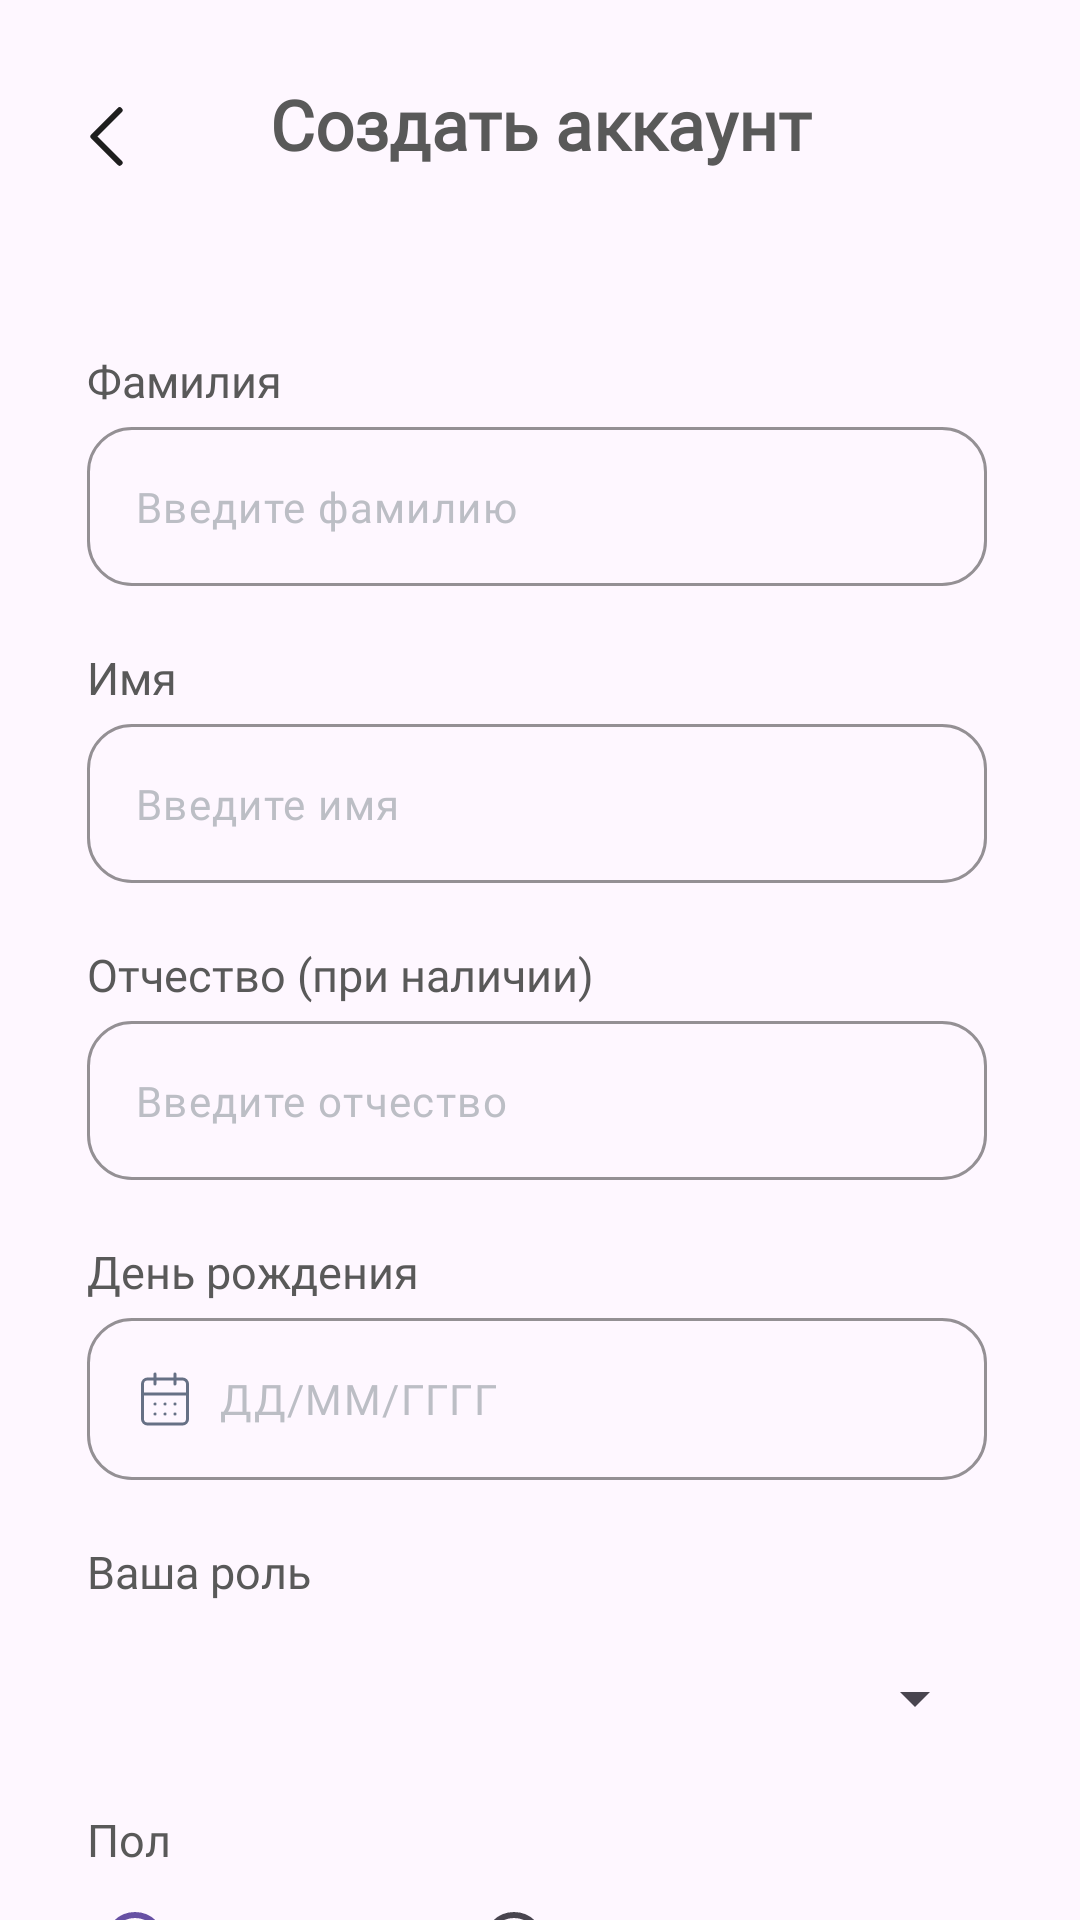

Named icons in this screenshot (1080 × 1920) and their bounding boxes, (x1, y1, x2, y2):
back: (90, 107, 123, 166)
